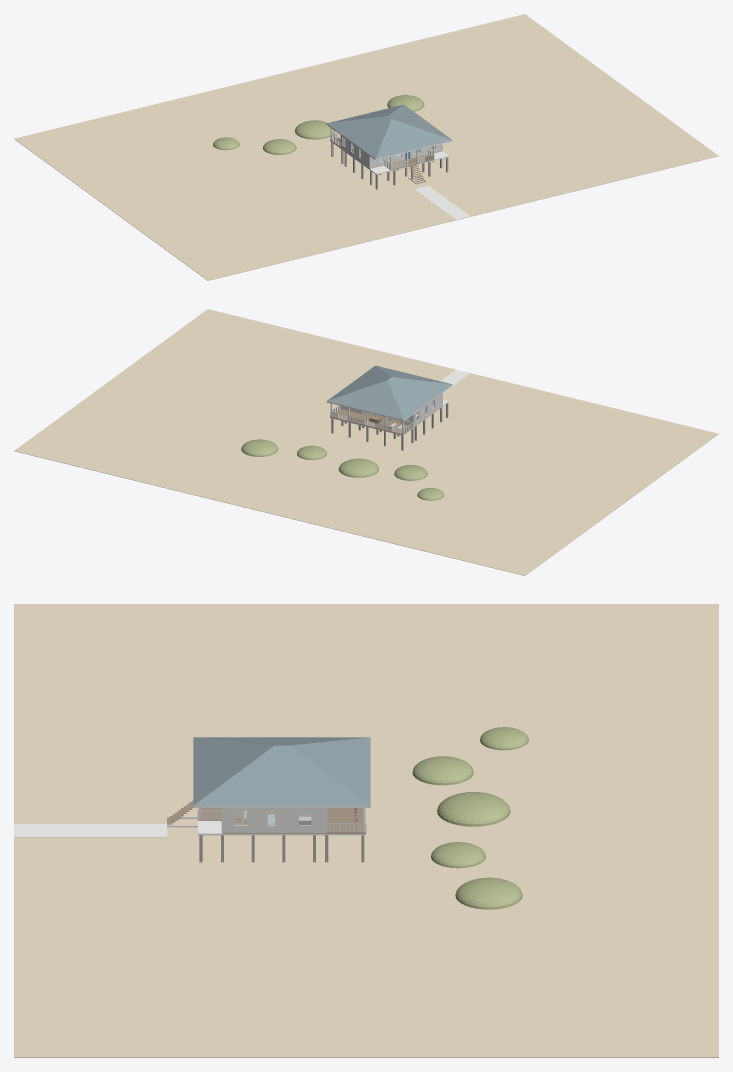
File: coastal_cottage.glb
3 views of the same model, one above another, from view 1: azimuth 30°, elevation 25°; view 2: azimuth 150°, elevation 25°; view 3: azimuth 270°, elevation 25° (orthographic). The views are drawn at different scales.
Visible parts, largest first — view 1: Sand, Roof_Hip_Metal, Driveway, Dune_1, Dune_0; view 2: Sand, Roof_Hip_Metal, Deck_RearLanai, Dune_1, Dune_3, Dune_0; view 3: Sand, Roof_Hip_Metal, Driveway, Dune_1, Dune_3, Dune_0, Dune_2, Deck_RearLanai, Dune_4, Floor_Beams.
Part boxes in pixels (<box>): Sand: <box>14,14,718,280</box>; Roof_Hip_Metal: <box>327,104,452,158</box>; Driveway: <box>414,185,470,219</box>; Dune_1: <box>295,120,335,139</box>; Dune_0: <box>263,139,296,154</box>; Sand: <box>14,309,718,575</box>; Roof_Hip_Metal: <box>327,365,452,419</box>; Deck_RearLanai: <box>330,409,413,434</box>; Dune_1: <box>338,458,378,477</box>; Dune_3: <box>241,439,278,456</box>; Dune_0: <box>394,465,427,480</box>; Sand: <box>14,604,718,1057</box>; Roof_Hip_Metal: <box>193,737,370,805</box>; Driveway: <box>14,824,167,837</box>; Dune_1: <box>437,792,510,826</box>; Dune_3: <box>455,877,522,909</box>; Dune_0: <box>412,756,473,785</box>; Dune_2: <box>431,842,485,868</box>; Deck_RearLanai: <box>326,808,365,833</box>; Dune_4: <box>480,727,528,750</box>; Floor_Beams: <box>198,820,365,835</box>.
Size of what is drawn, in the model's own units: 107 by 10.63 by 70.1.
